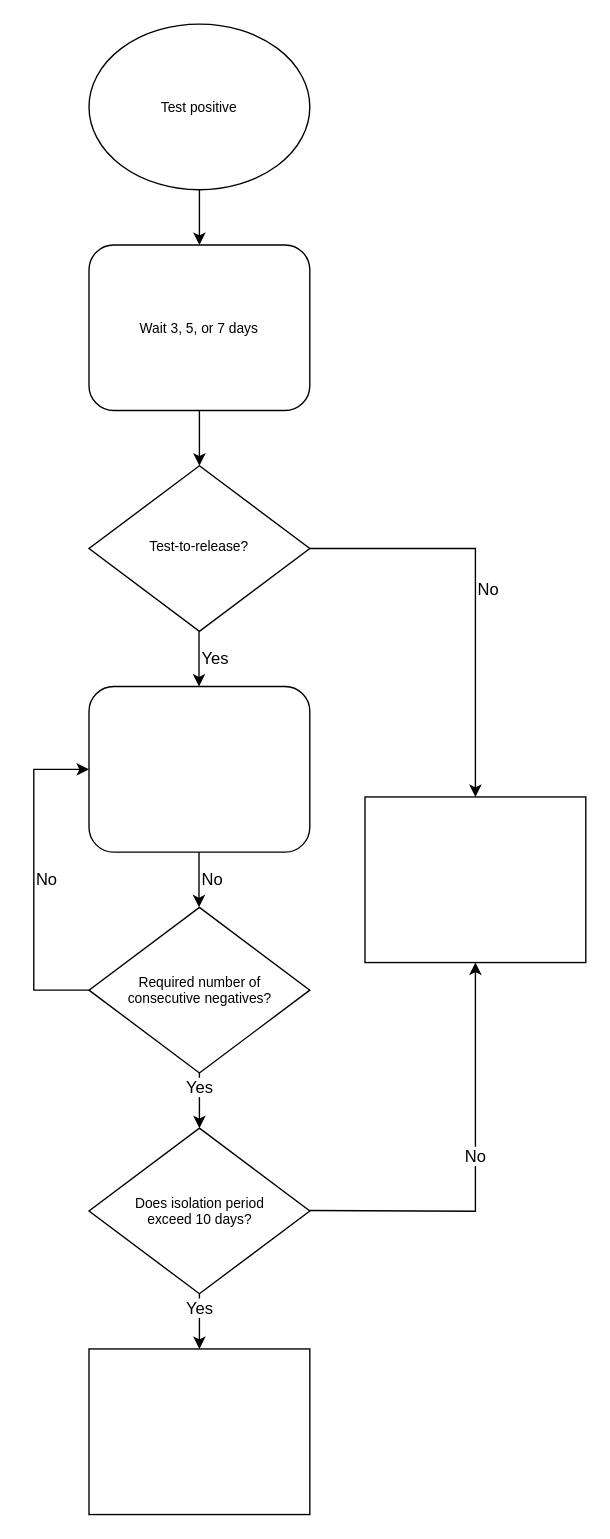
Some shapes in this 610 by 1539 pixel diagram are drawn without their labels. The box of each missing label's shape, as (x1, y1, x2, y2) in pixels:
Release from isolation: (364, 796, 586, 963)
Release from isolation at 10 days: (88, 1348, 310, 1515)
Resume daily testing: (88, 685, 310, 852)
